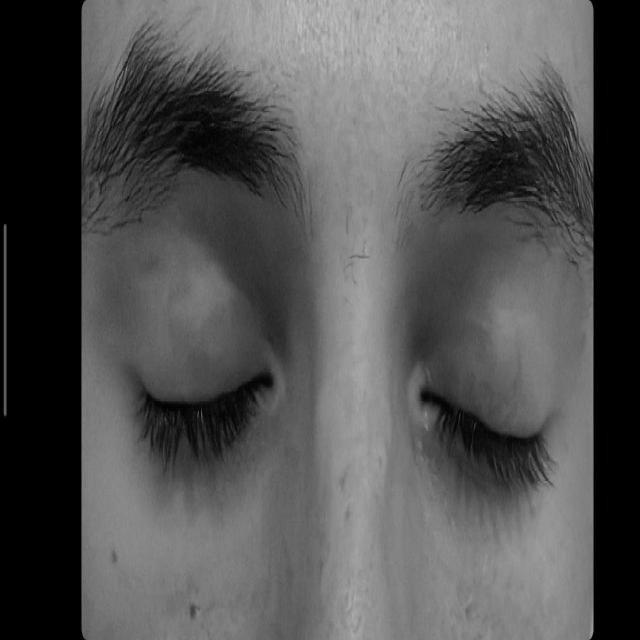real: (102, 117, 579, 560)
